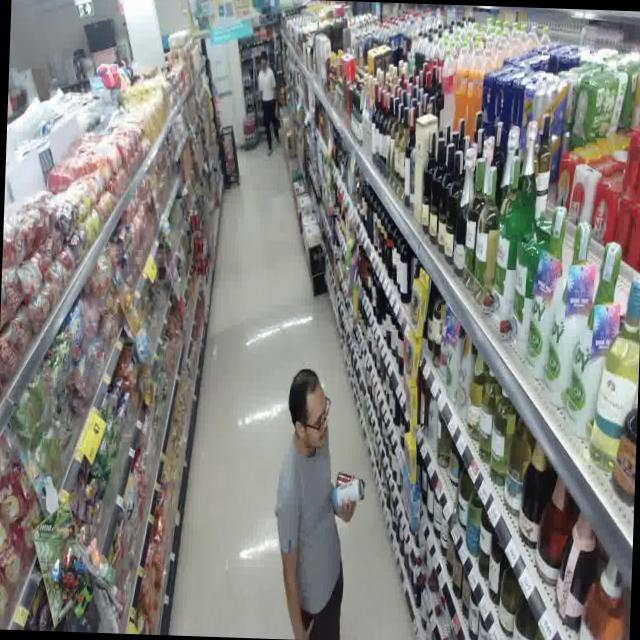pickup: (256, 348, 382, 640)
